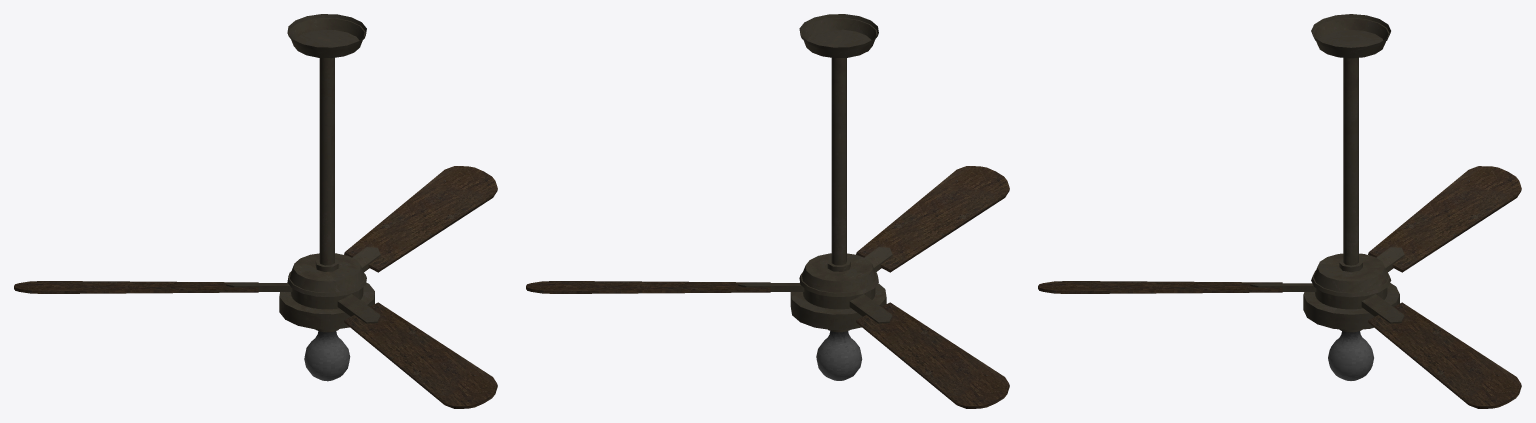
The model's file is ceiling_fan_mp_1_1_light_off.glb.
The picture shows the model from 3 angles, left to right: view 1: azimuth 30°, elevation 25°; view 2: azimuth 150°, elevation 25°; view 3: azimuth 270°, elevation 25°; orthographic projection.
Visible parts, largest first — view 1: ceiling_fan_mp_1_1_light_off_blades, ceiling_fan_mp_1_1_light_off; view 2: ceiling_fan_mp_1_1_light_off_blades, ceiling_fan_mp_1_1_light_off; view 3: ceiling_fan_mp_1_1_light_off_blades, ceiling_fan_mp_1_1_light_off.
Boxes of the visible parts, bbox=[...] form: ceiling_fan_mp_1_1_light_off_blades: bbox=[14, 166, 497, 408]; ceiling_fan_mp_1_1_light_off: bbox=[279, 14, 374, 381]; ceiling_fan_mp_1_1_light_off_blades: bbox=[526, 166, 1009, 408]; ceiling_fan_mp_1_1_light_off: bbox=[790, 14, 886, 380]; ceiling_fan_mp_1_1_light_off_blades: bbox=[1038, 166, 1521, 408]; ceiling_fan_mp_1_1_light_off: bbox=[1303, 14, 1399, 380].
Bounding box in the file's own units: 1.02 × 0.7128 × 0.8979.
3 materials, 3 textured.
